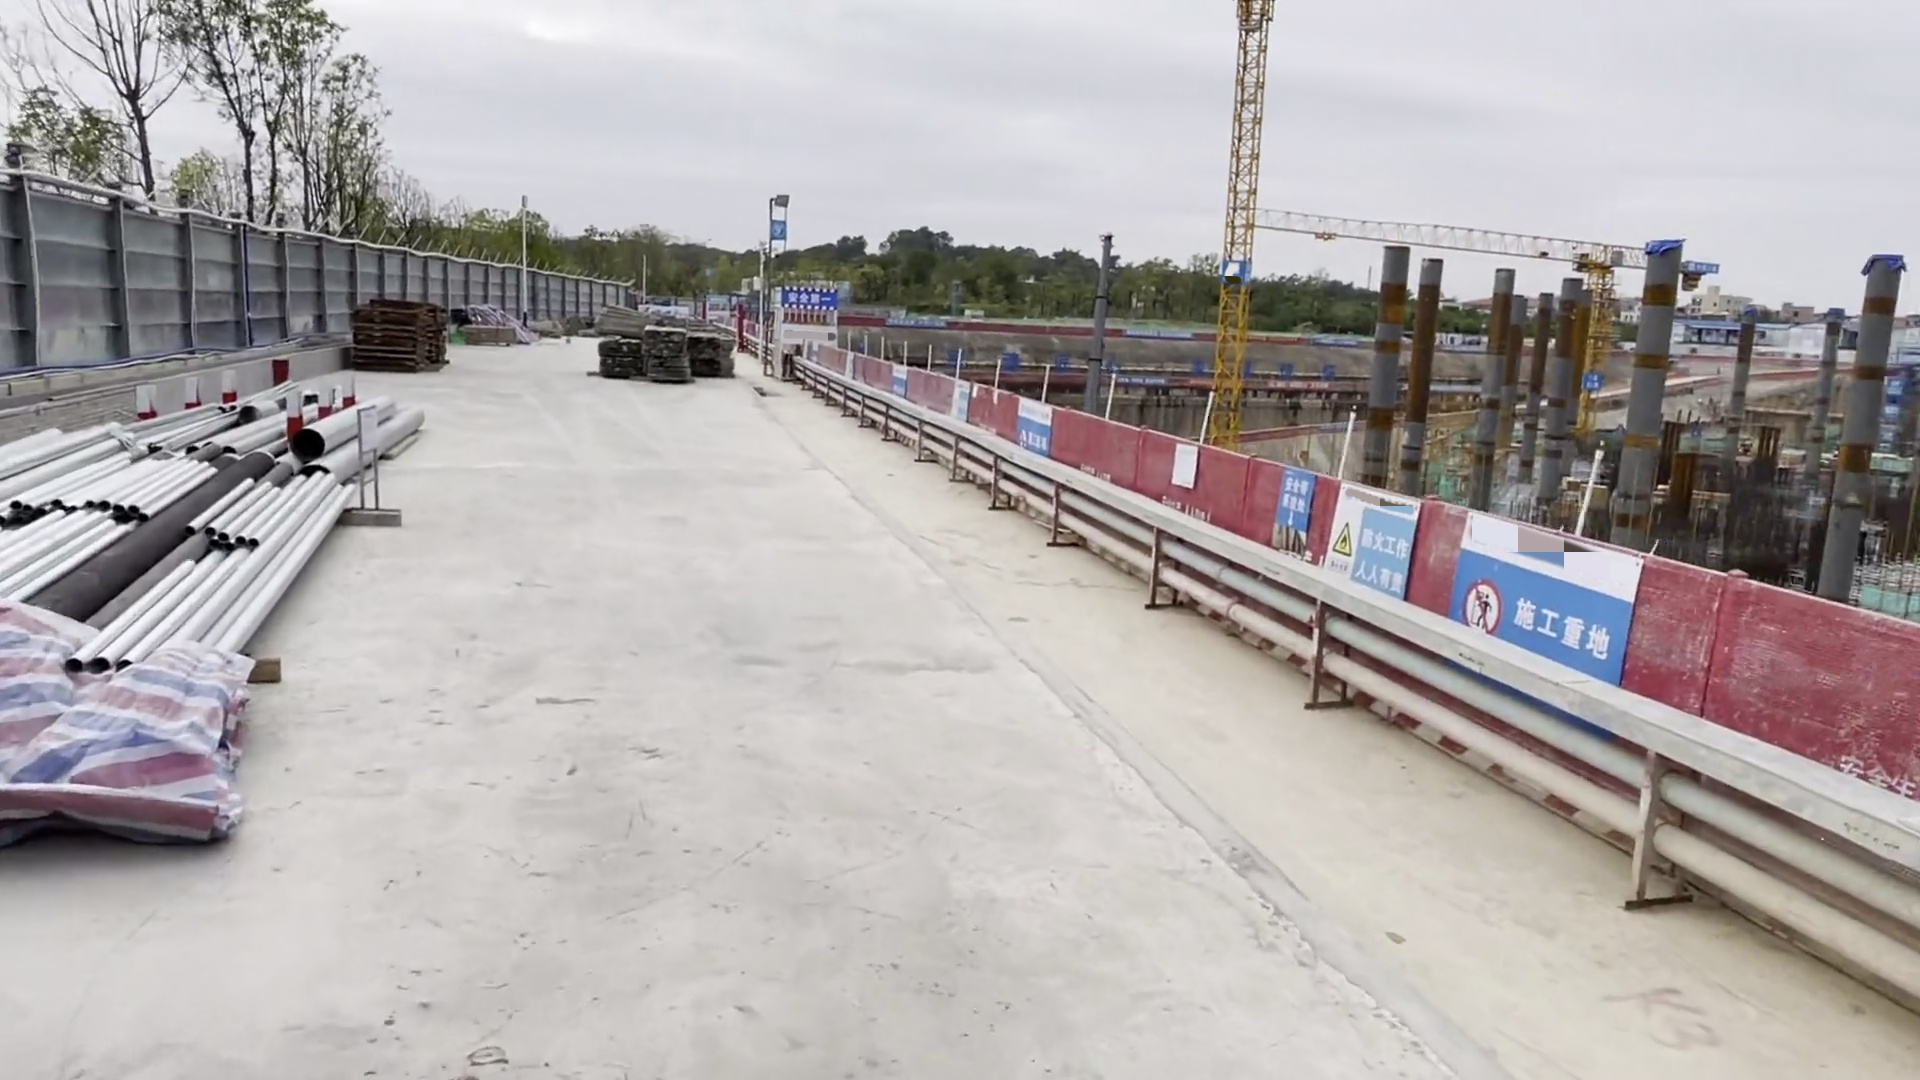fence: (1422, 520, 1915, 786), (967, 385, 1399, 603)
slogan: (1455, 516, 1633, 687), (1315, 496, 1408, 597), (1273, 468, 1313, 527), (1010, 397, 1043, 448), (770, 286, 833, 306), (1125, 326, 1192, 339), (887, 363, 909, 394), (1120, 375, 1162, 386), (1681, 258, 1716, 273), (889, 319, 948, 327), (1317, 338, 1358, 347), (1584, 372, 1598, 386)
